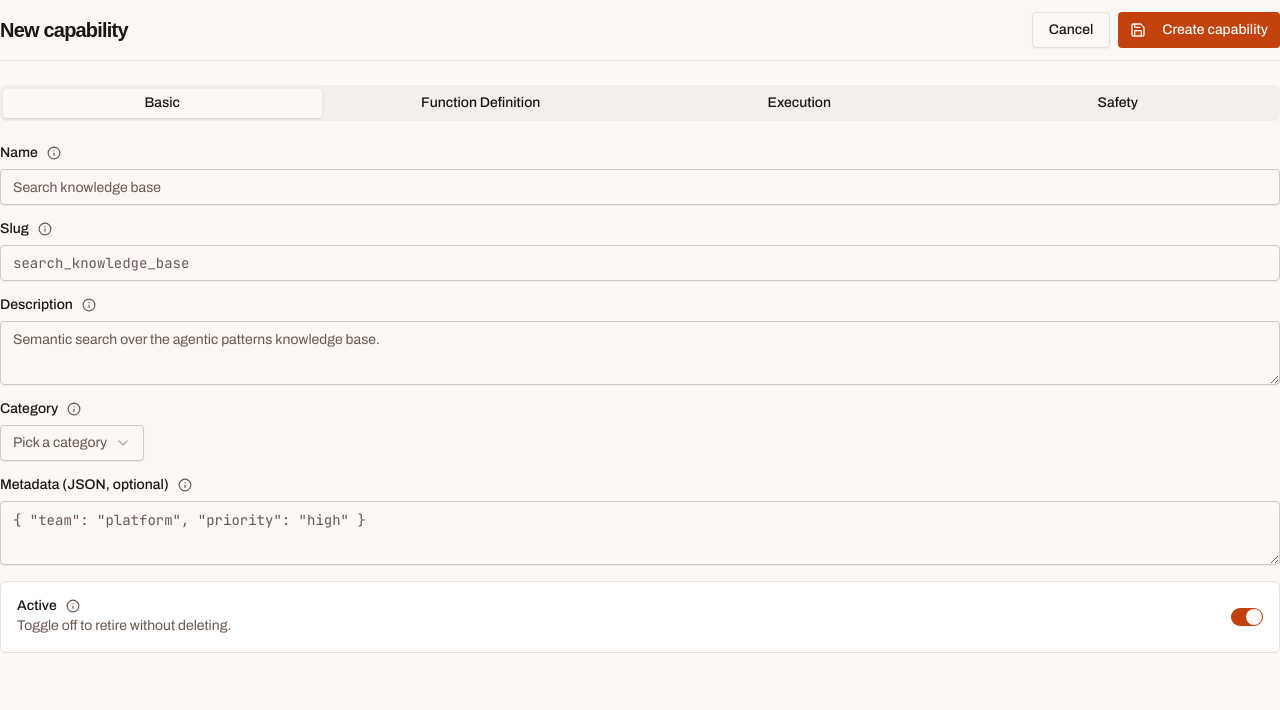
Scenario: CapabilityForm — Function Definition tab › visual builder › clicking "Add parameter" appends a row
Click the tab "Function Definition".
click(481, 103)  # box x1=322 y1=88 x2=640 y2=118
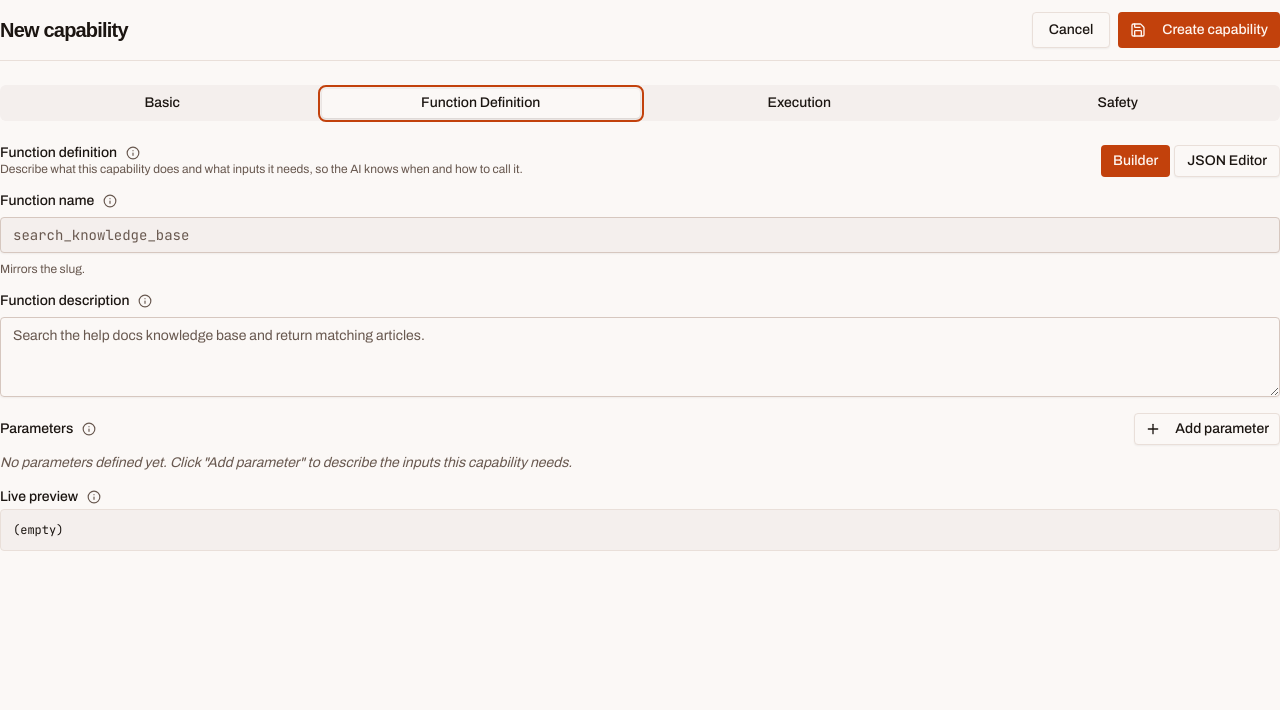
Click the button "Add parameter".
click(1207, 429)  # box x1=1134 y1=413 x2=1279 y2=445
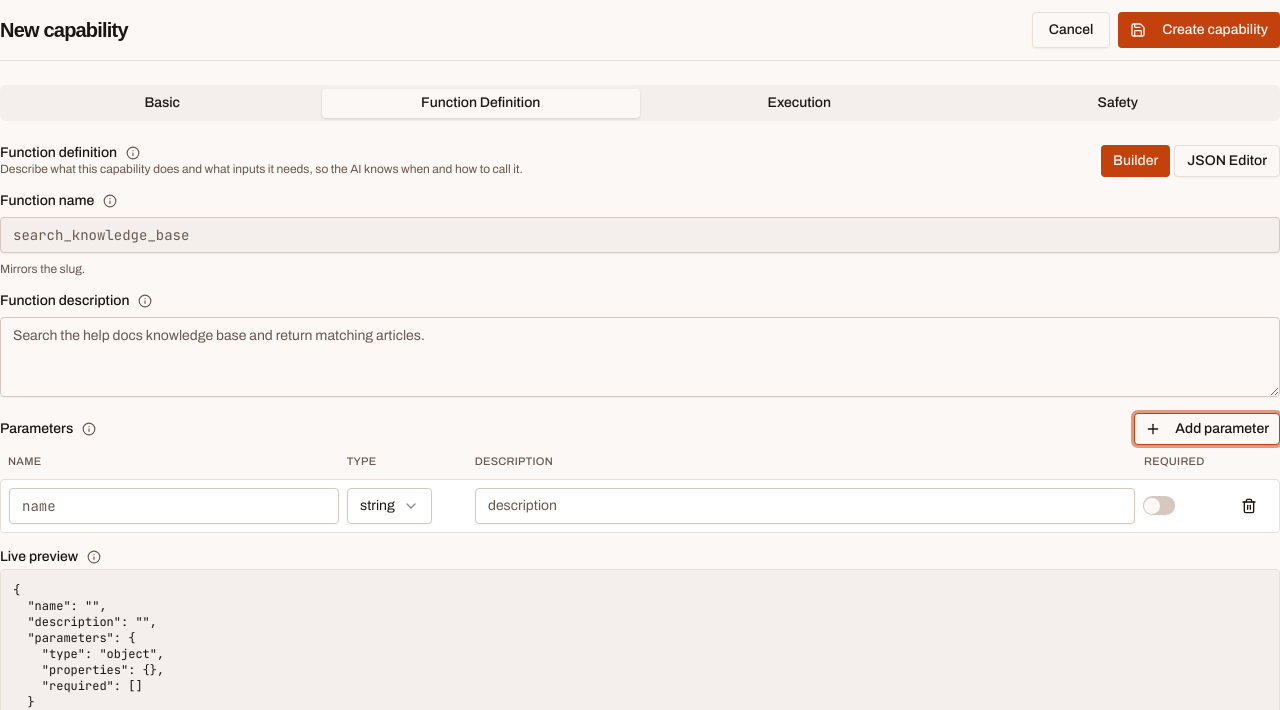
Check: the text "No parameters defined yet" is gone
Check: the field with placeholder "name" is shown, box x1=9 y1=488 x2=339 y2=524
